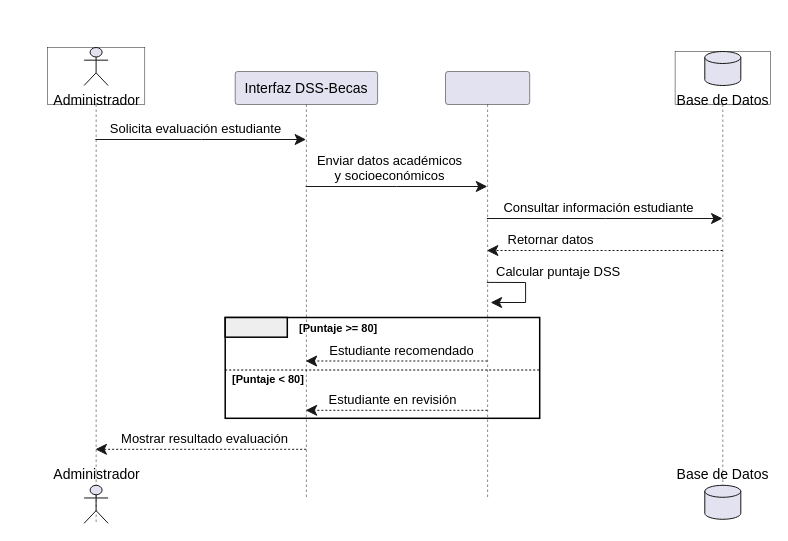
This 788x541 diagram has some shape labels left out. The shapes that lost their labels are listed below. From the top down, each one's centre as x and y in pixels, then its label:
At point 487,285: "Motor DSS".
At point 256,327: "alt".
